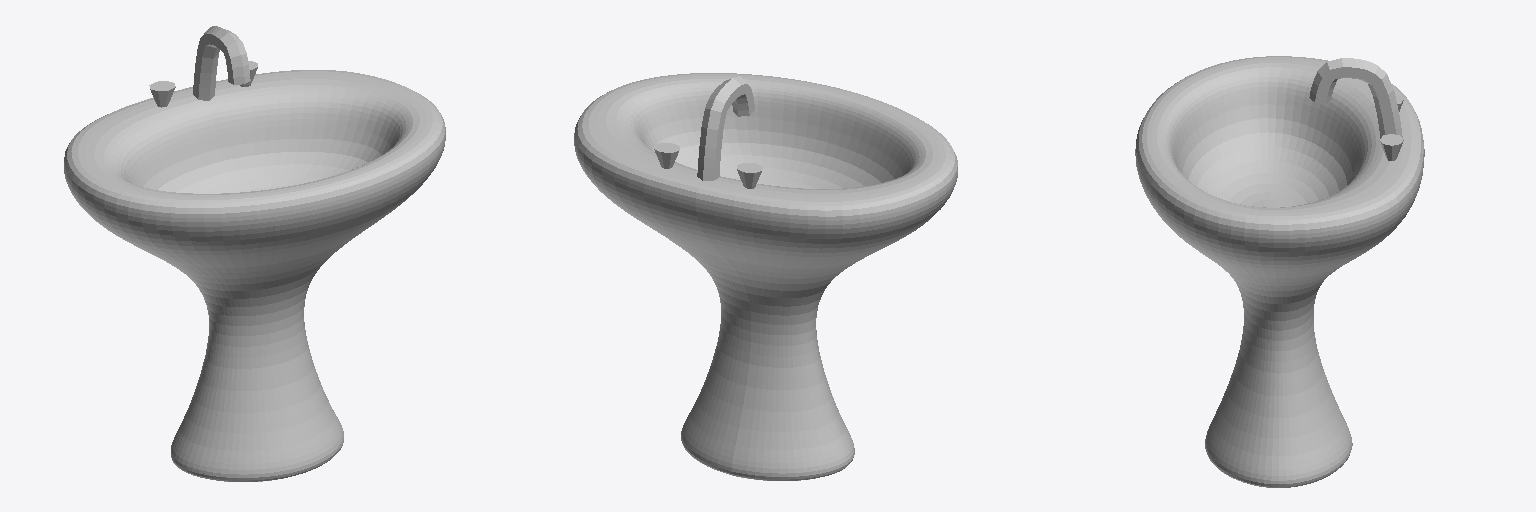
File: washbasin.obj
3 views of the same model, side by side, from view 1: azimuth 30°, elevation 25°; view 2: azimuth 150°, elevation 25°; view 3: azimuth 270°, elevation 25° (orthographic).
Visible parts, largest first — view 1: Lavabo, Robinet; view 2: Lavabo, Robinet; view 3: Lavabo, Robinet.
Boxes of the visible parts, <box> form: Lavabo: <box>64,70,445,481</box>; Robinet: <box>193,26,250,100</box>; Lavabo: <box>574,73,957,480</box>; Robinet: <box>697,76,754,180</box>; Lavabo: <box>1135,56,1424,487</box>; Robinet: <box>1309,58,1402,138</box>.
Bounding box in the file's own units: 1.81 × 1.99 × 1.3.